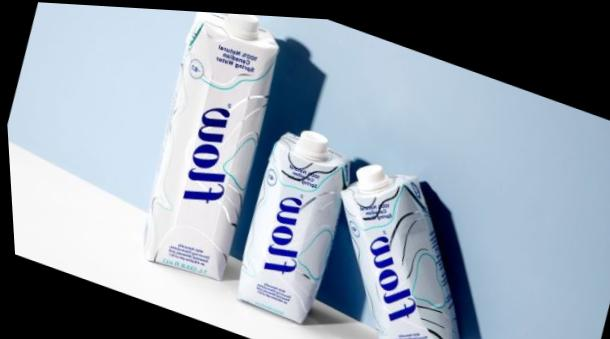cardboard: (112, 7, 305, 295), (297, 148, 503, 339), (219, 111, 368, 329)
